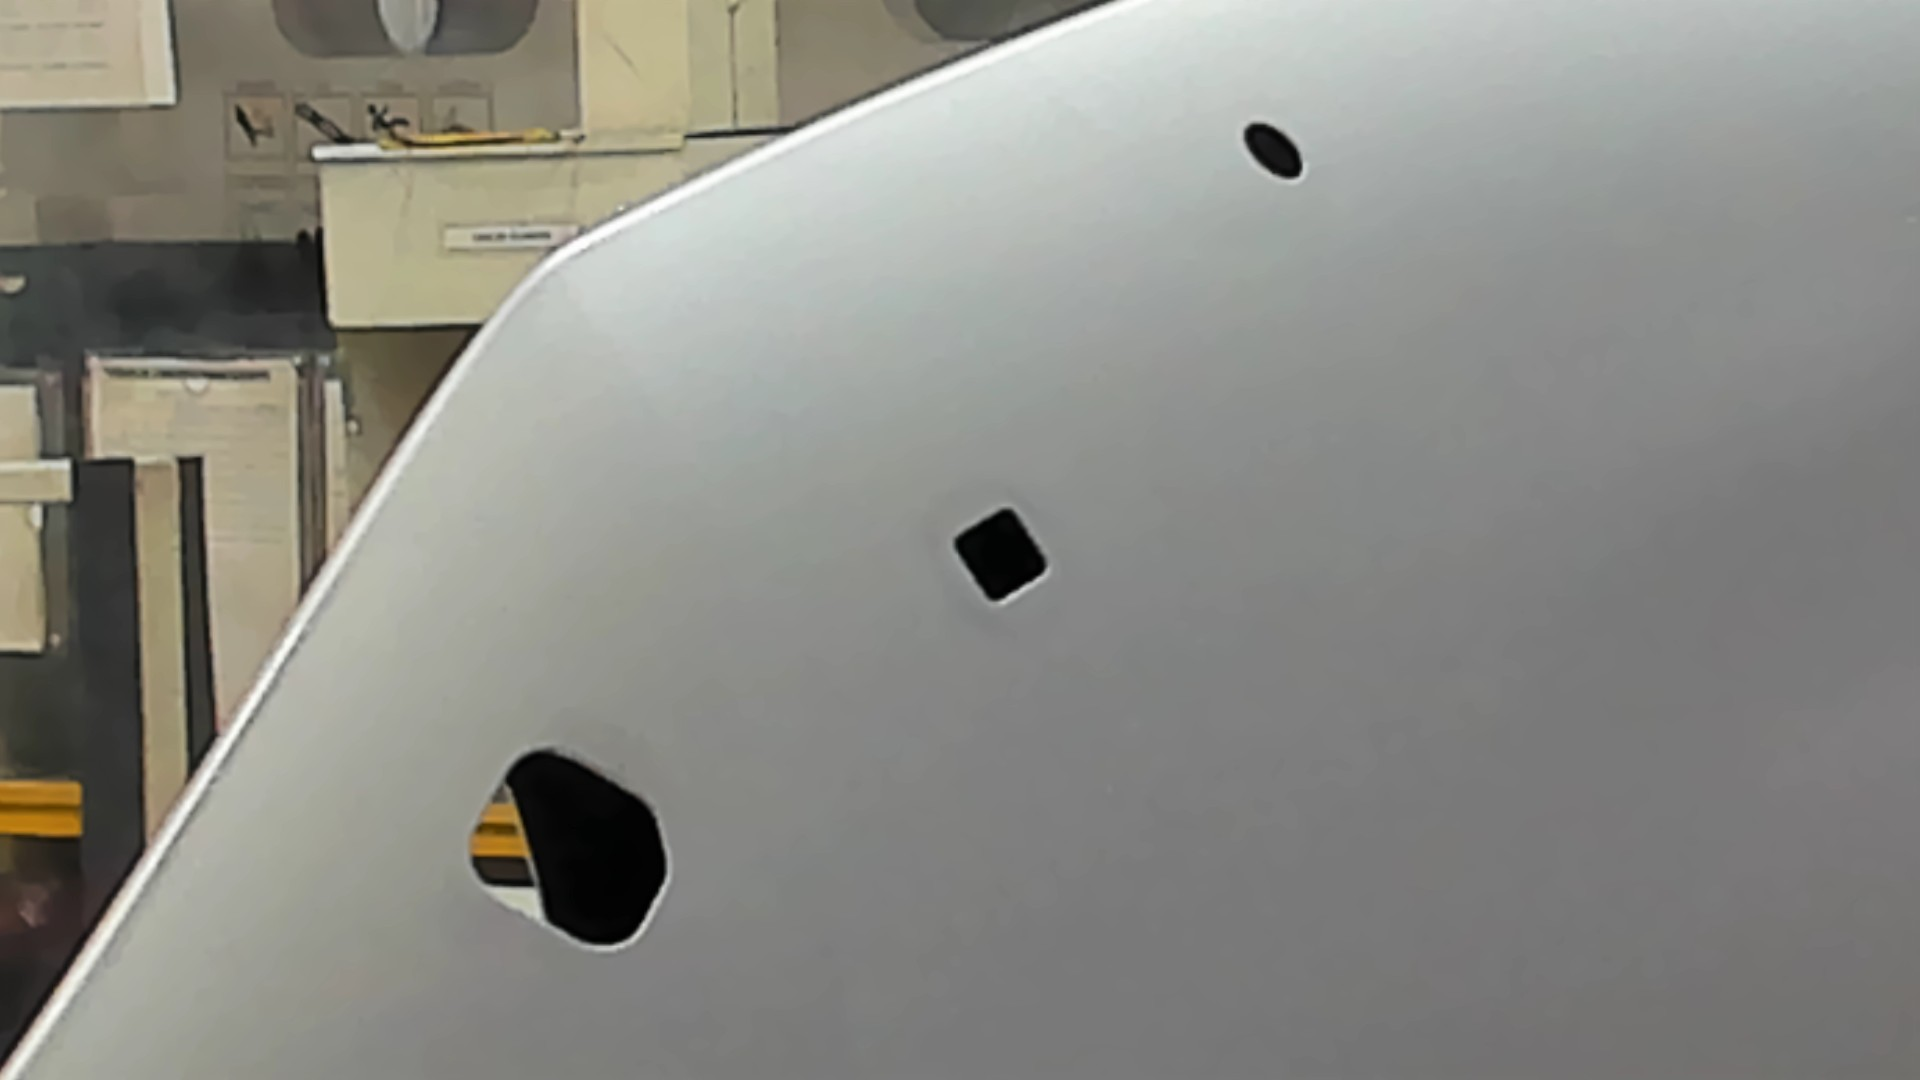Agujero: (949, 505, 1052, 611), (1241, 119, 1305, 179)
Agujerote: (467, 745, 676, 955)
